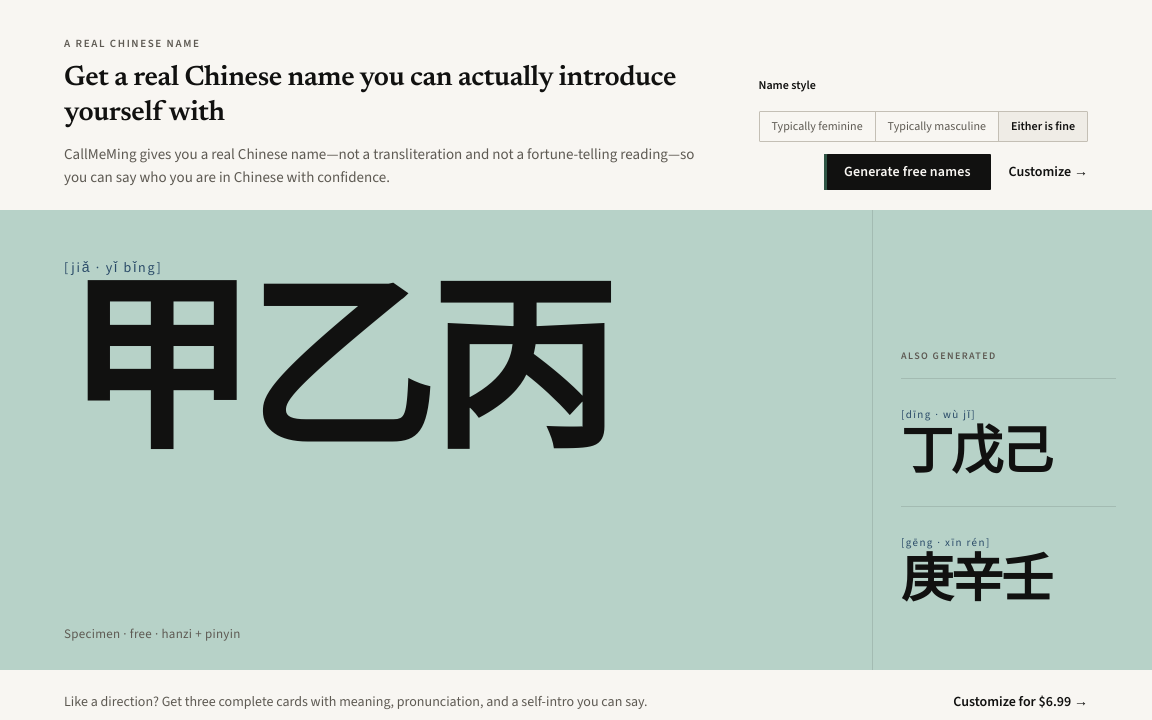
Test case: Generator first-load auto-preview › generates a new counted set only after clicking Generate
Expected: the text "甲乙丙" is shown, x1=64 y1=266 x2=610 y2=474
Click the button "Typically feminine": coordinates (818, 126) x1=760 y1=112 x2=876 y2=140
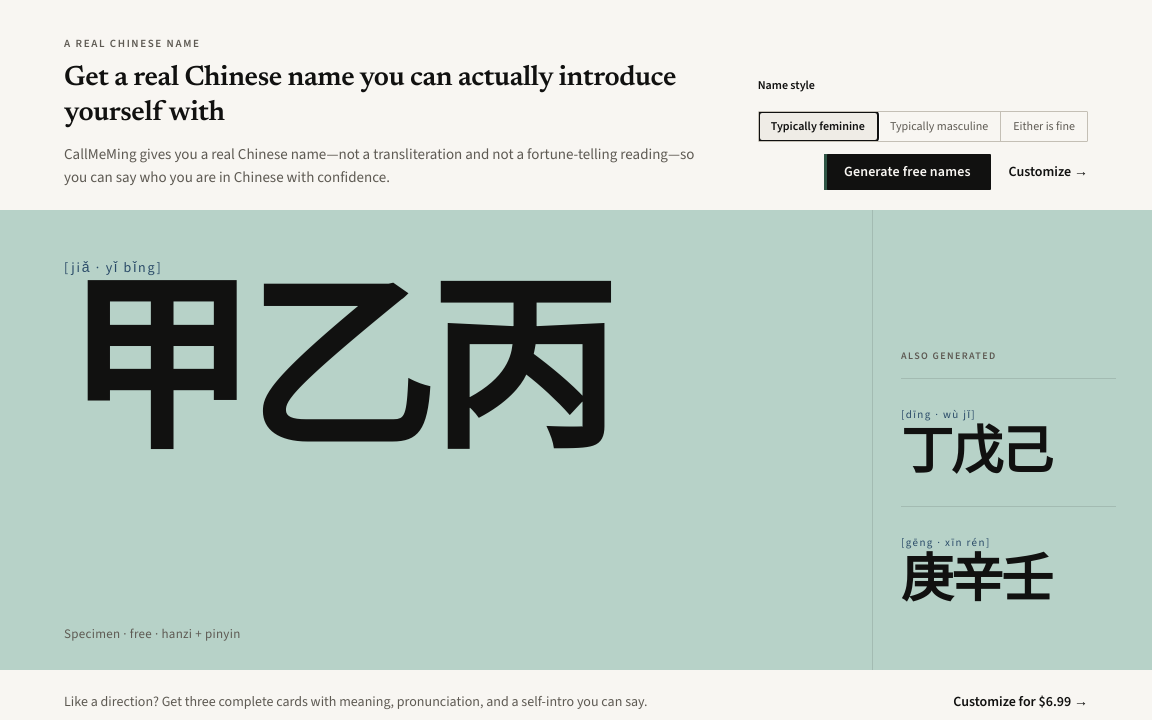
Click the button "Generate free names": coordinates (907, 172) x1=824 y1=154 x2=991 y2=190
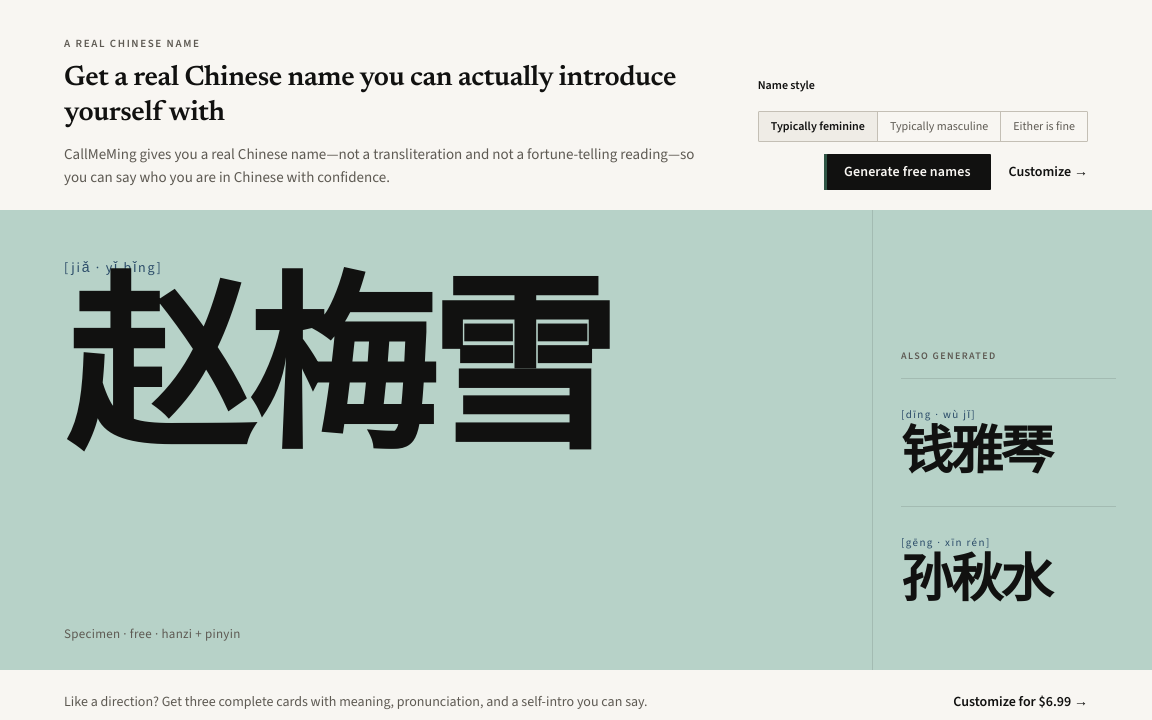
Result: the text "赵梅雪" is shown at x1=64 y1=266 x2=610 y2=474
